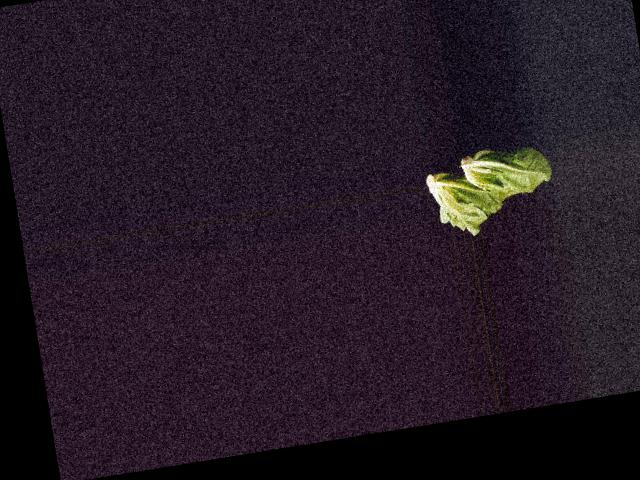lettuce: (423, 151, 521, 240)
